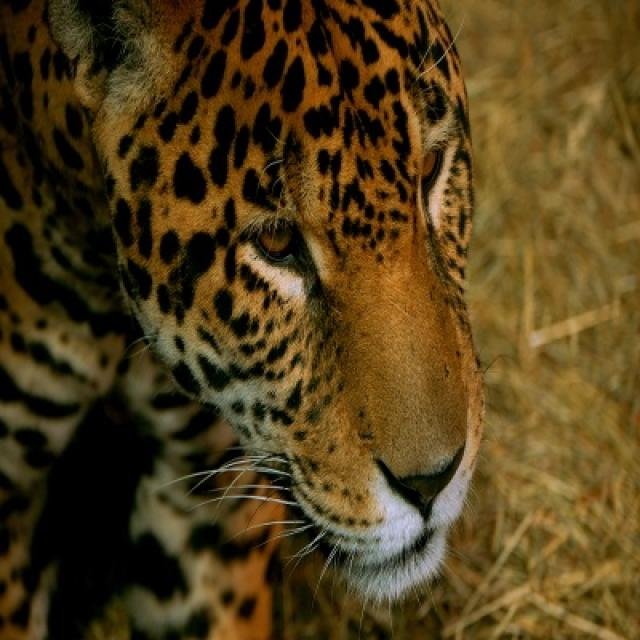Jaguar: (0, 0, 486, 638)
